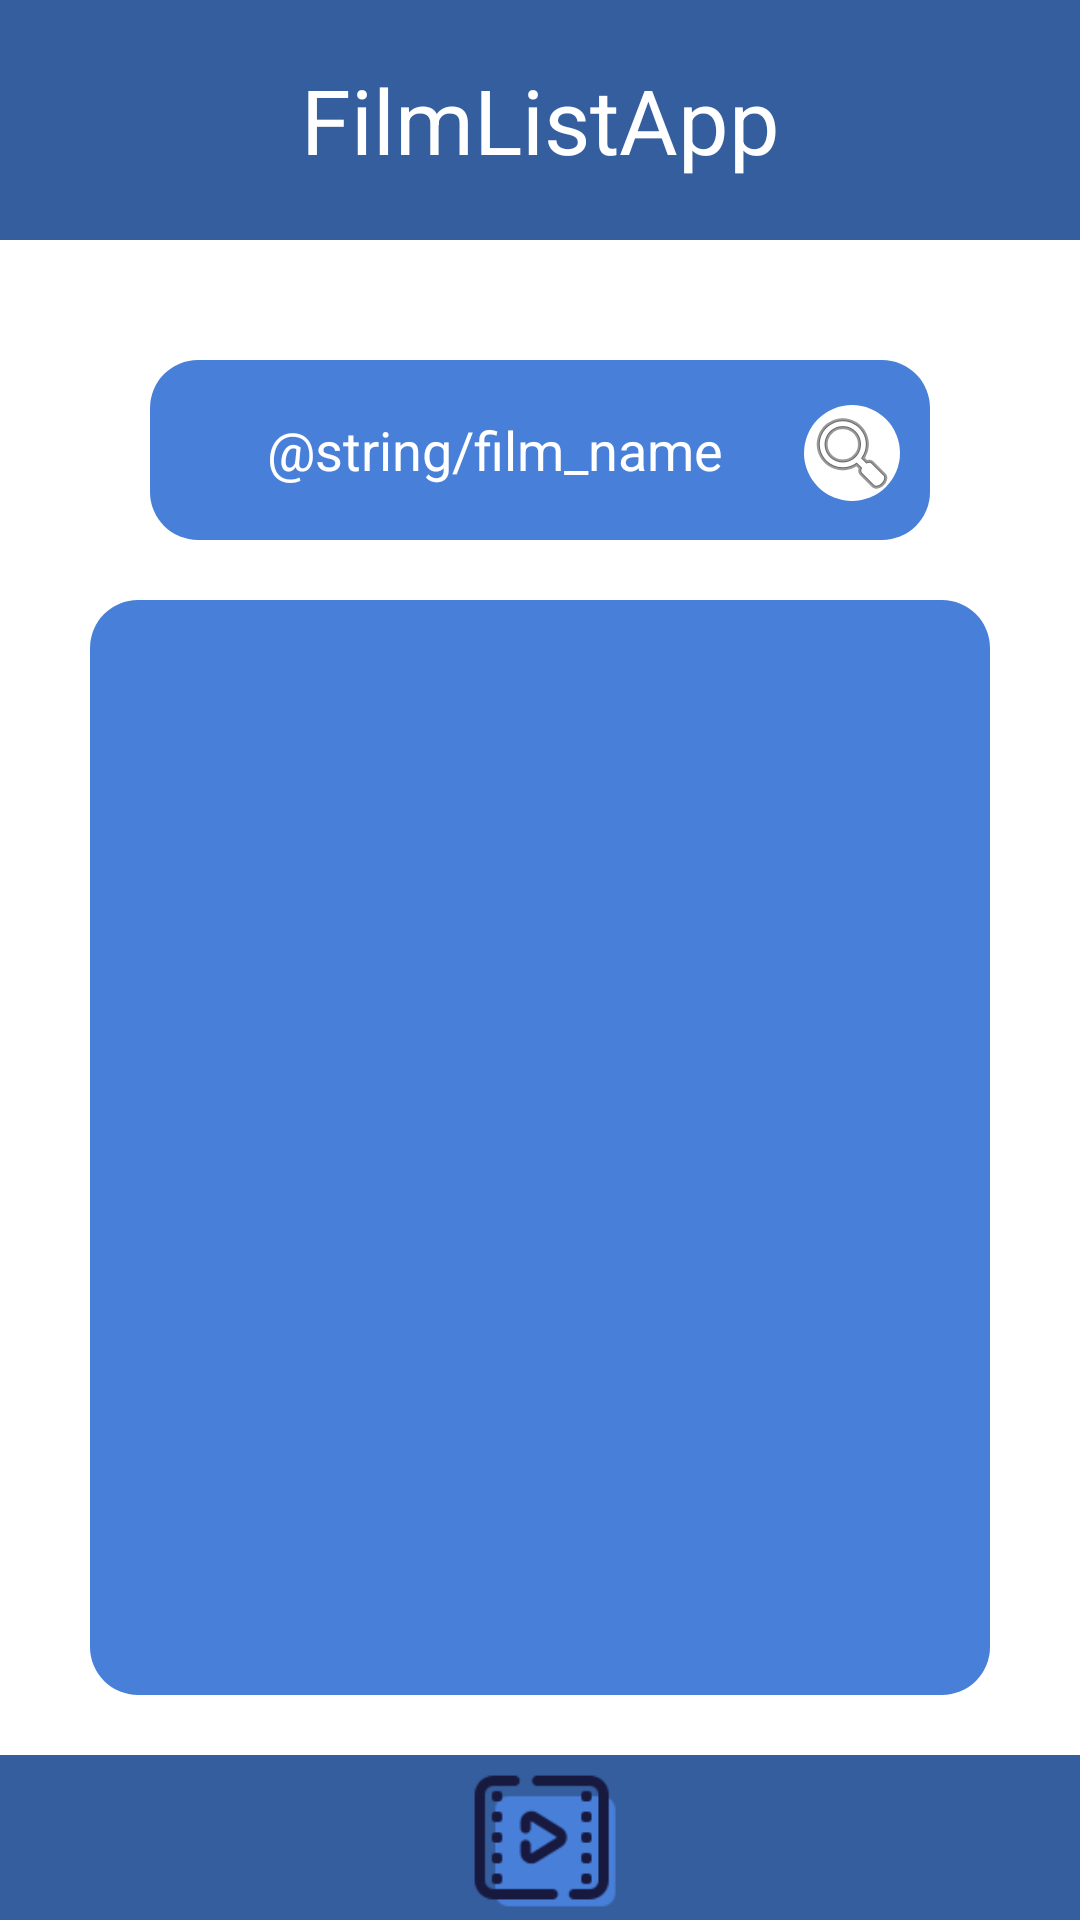

Icons on this 1080*1920 Android screen, each with the point to tap as (x,y):
search: (852,453)
